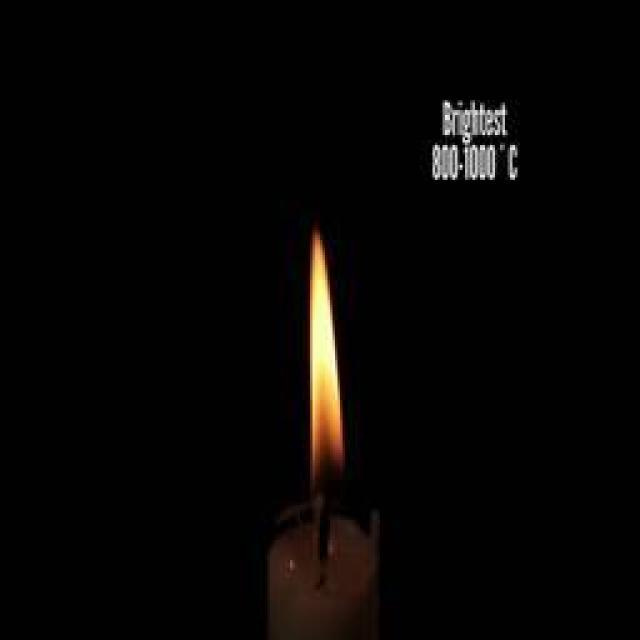Fire: (306, 234, 344, 466)
